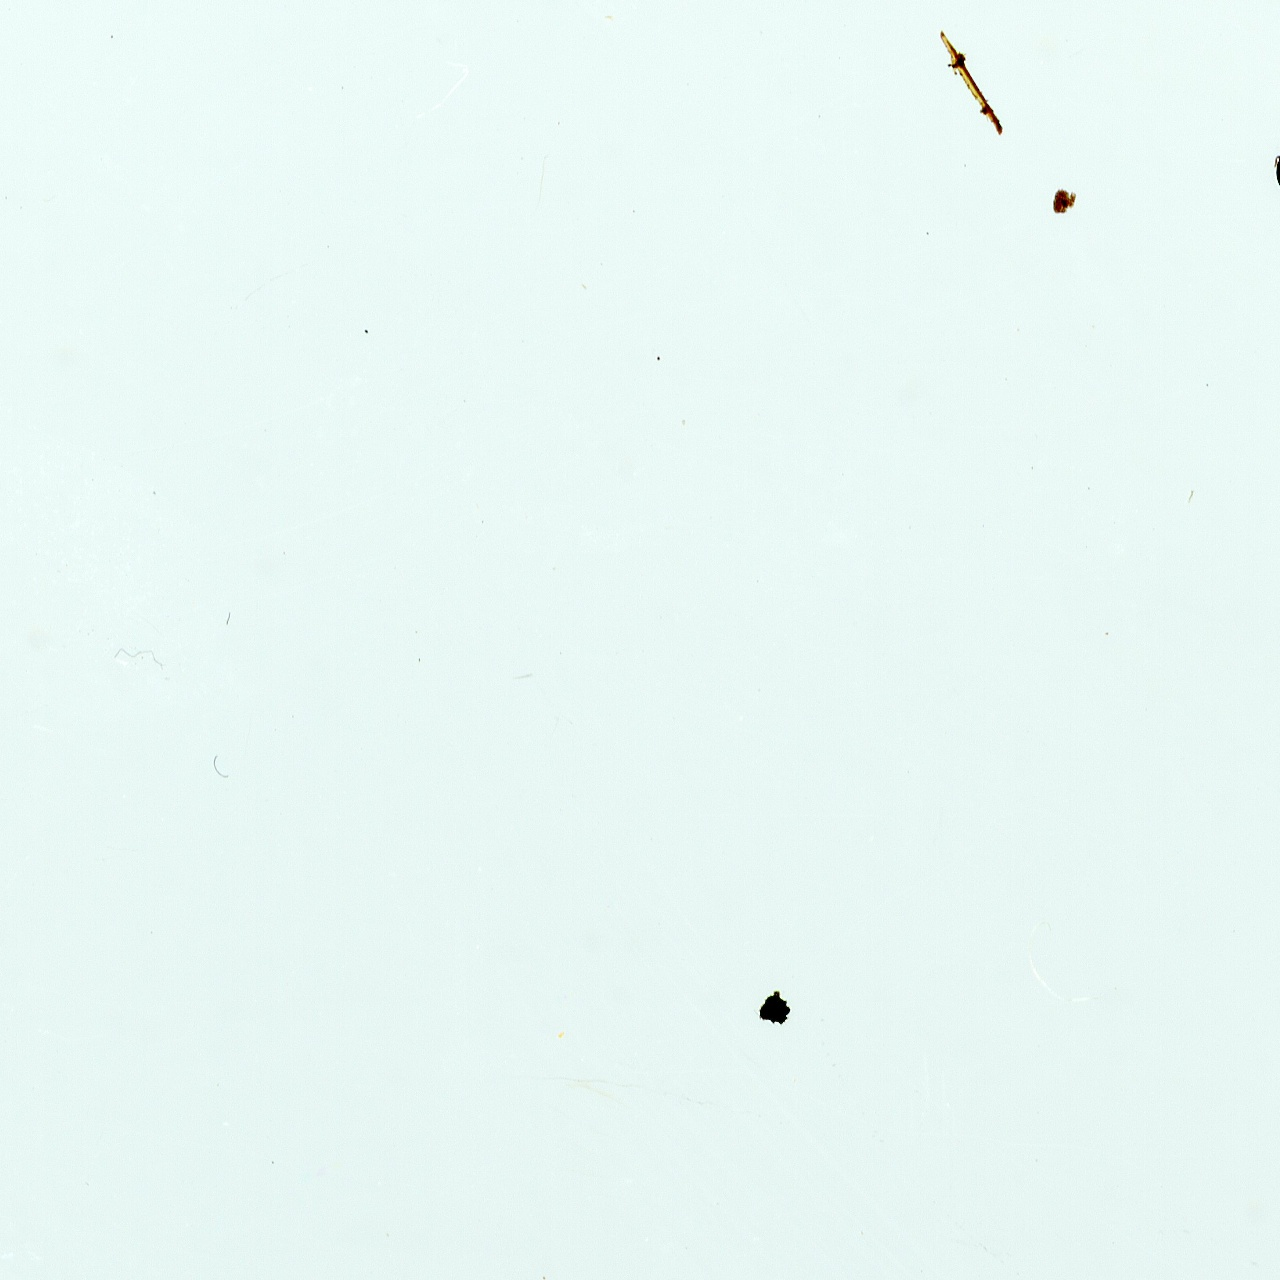arthropod: (1273, 131, 1280, 202)
